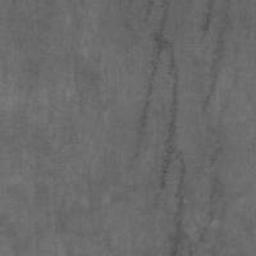Water spot: (138, 0, 233, 256), (143, 0, 157, 23), (124, 0, 134, 13)
